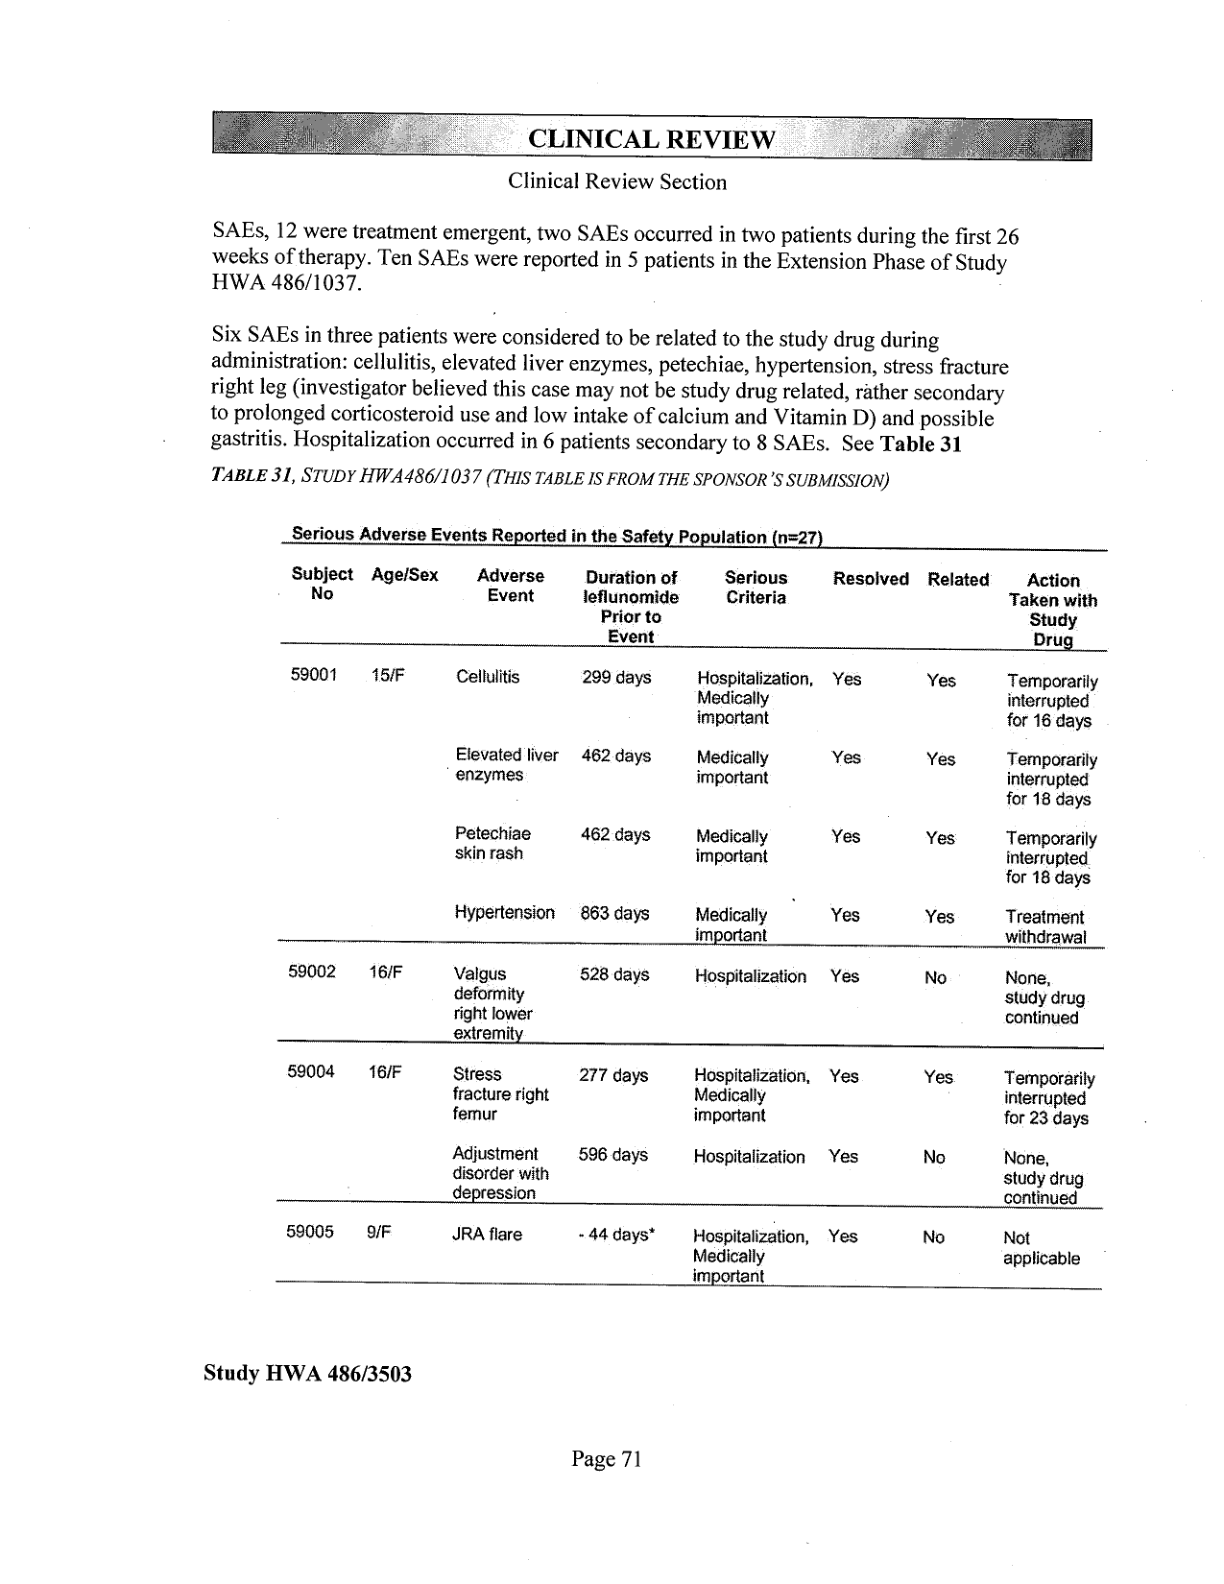partial_lined: (274, 540, 1104, 1291)
